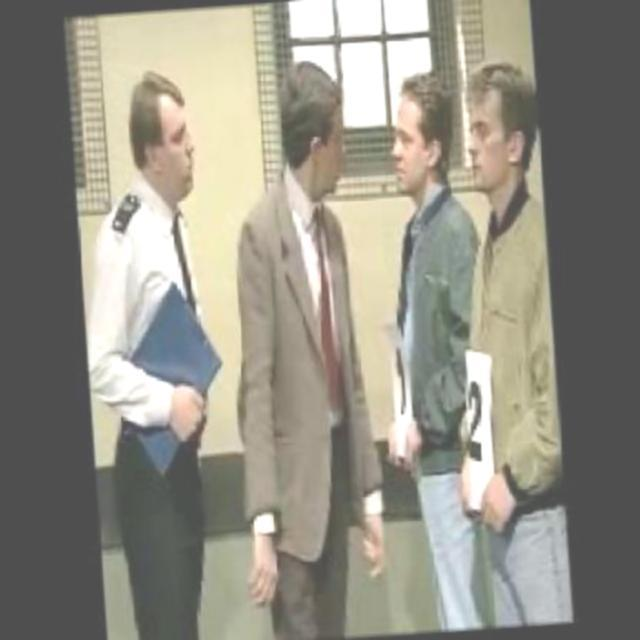non-fight: (212, 52, 397, 638), (74, 64, 238, 638), (368, 69, 507, 632), (444, 58, 572, 628)
